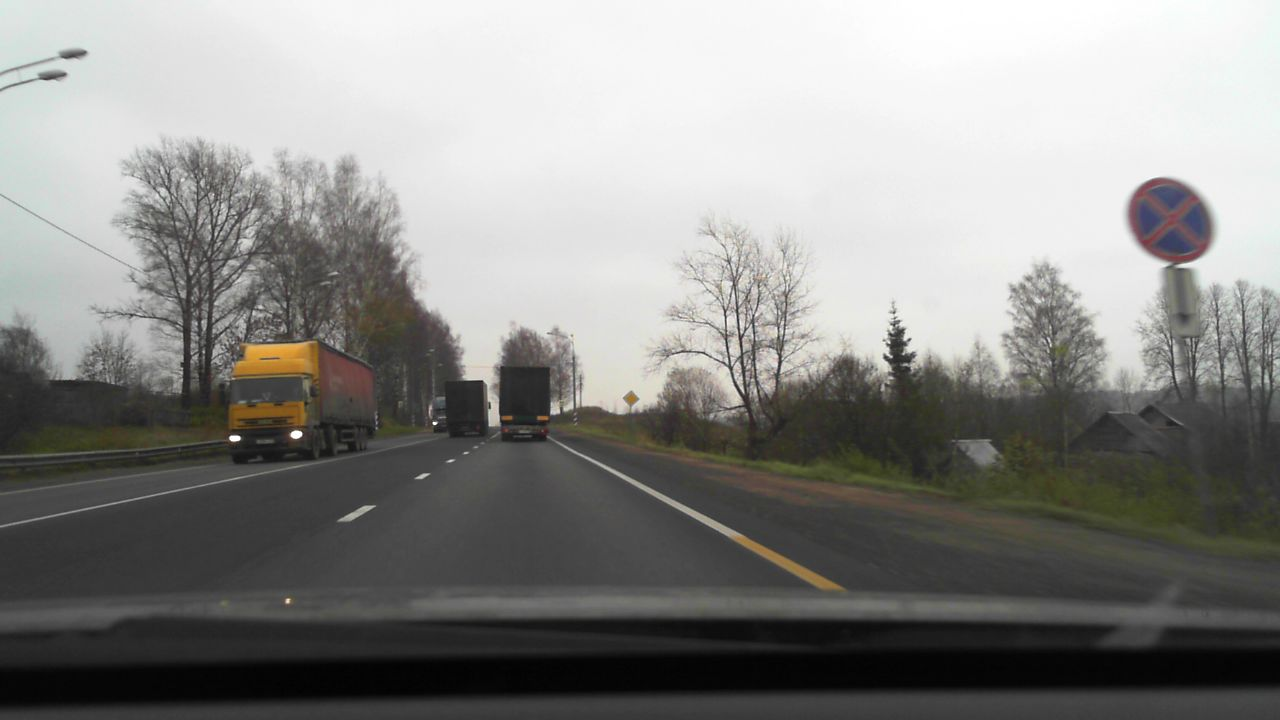No Parking: (1125, 178, 1215, 264)
